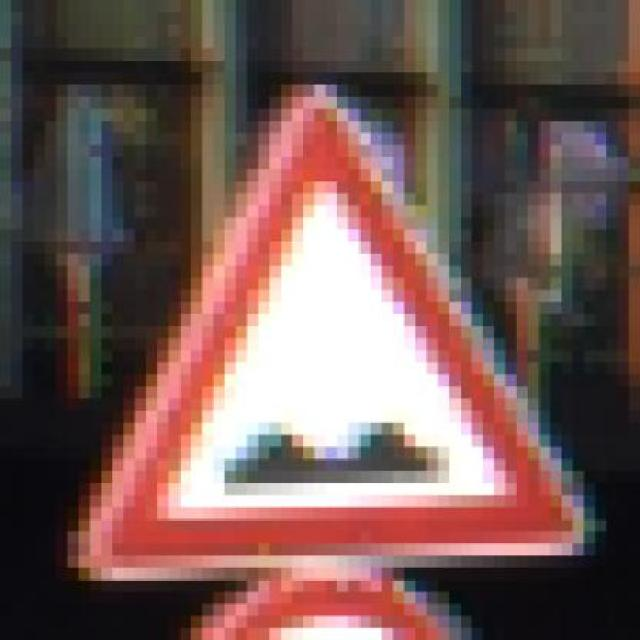Uneven Road: (79, 72, 606, 568)
